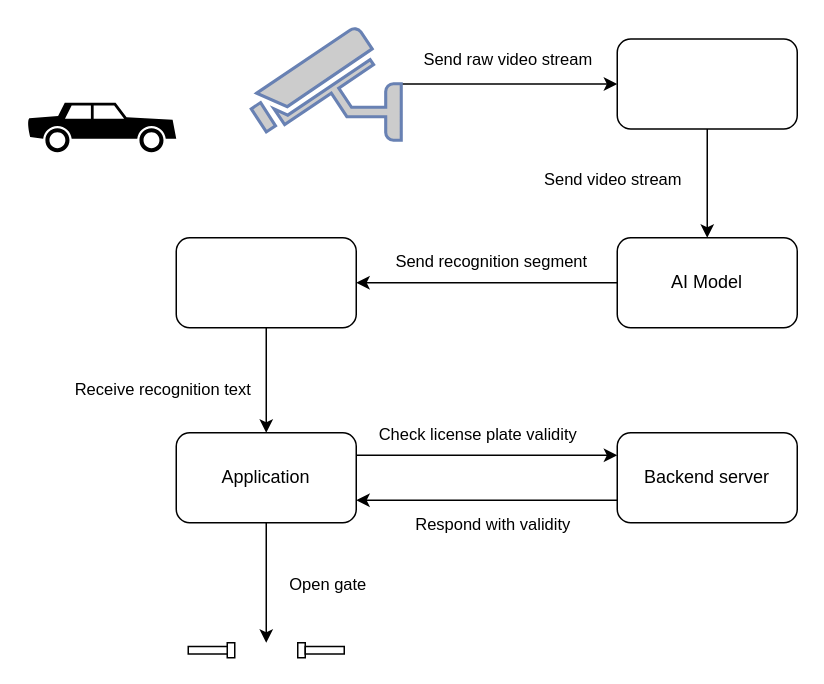
Image size: 824x684. Some labels were removed from this diagram. Here are the shapes that lost their labels. From the top down, the centre of each, then its label:
pixel 706 83: Video reader
pixel 265 282: OCR library
